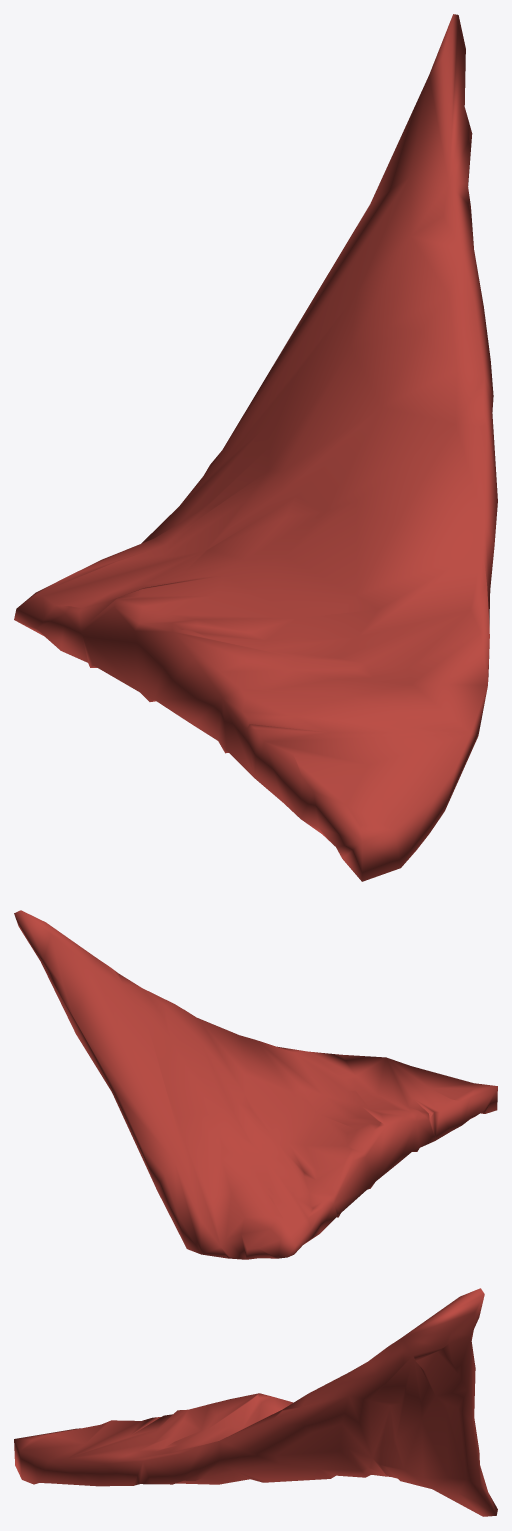
File: musculos-mylohyoid-muscle-l.glb
3 renders of one model, top to bottom at view 1: azimuth 30°, elevation 25°; view 2: azimuth 150°, elevation 25°; view 3: azimuth 270°, elevation 25°, orthographic. The views are drawn at different scales.
Visible parts, largest first — view 1: Mylohyoid muscle.l; view 2: Mylohyoid muscle.l; view 3: Mylohyoid muscle.l.
Boxes of the visible parts, x1=… form: Mylohyoid muscle.l: x1=14, y1=14, x2=497, y2=881; Mylohyoid muscle.l: x1=14, y1=910, x2=497, y2=1259; Mylohyoid muscle.l: x1=14, y1=1288, x2=497, y2=1516.
Size of the model in its own units: 0.0269 by 0.028 by 0.0378.
